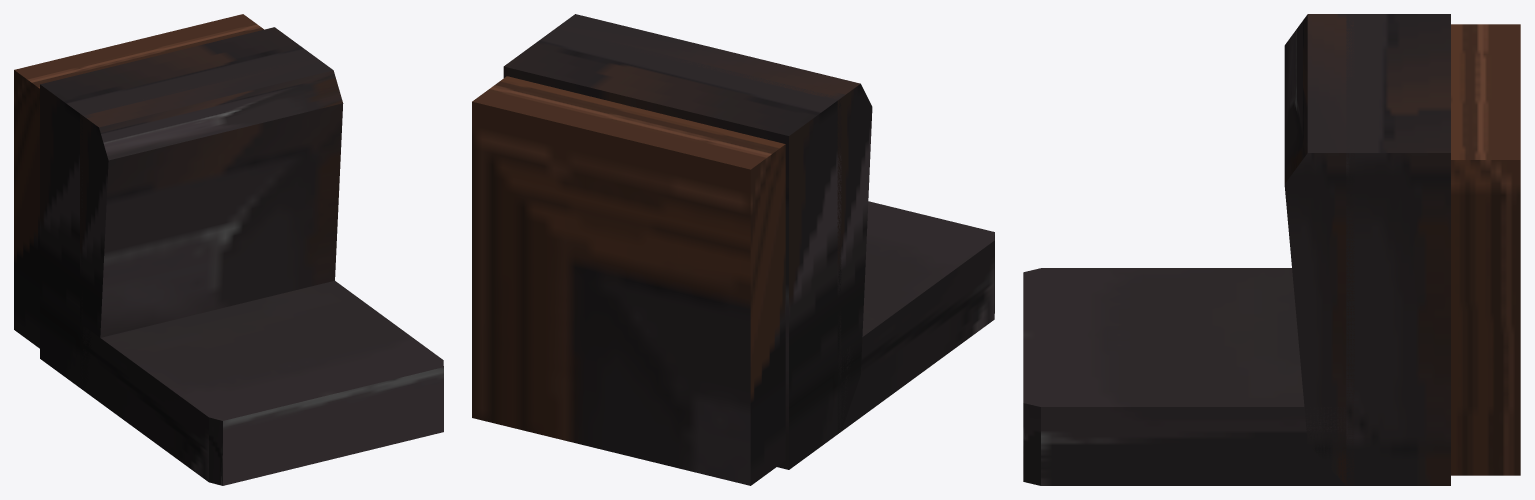
File: pz_leather_bar_1_fidelity_r1.obj
3 renders of one model, left to right at view 1: azimuth 30°, elevation 25°; view 2: azimuth 150°, elevation 25°; view 3: azimuth 270°, elevation 25°, orthographic. The views are drawn at different scales.
Visible parts, largest first — view 1: pz_leather_bar_1_fidelity_r1; view 2: pz_leather_bar_1_fidelity_r1; view 3: pz_leather_bar_1_fidelity_r1.
Part boxes in pixels (x1,y1,x2,y2): pz_leather_bar_1_fidelity_r1: (14, 14, 443, 485); pz_leather_bar_1_fidelity_r1: (472, 14, 994, 485); pz_leather_bar_1_fidelity_r1: (1023, 14, 1520, 485).
Size of the model in its own units: 0.85 by 0.95 by 1.28.
Materials: 1 (1 with a texture image).
